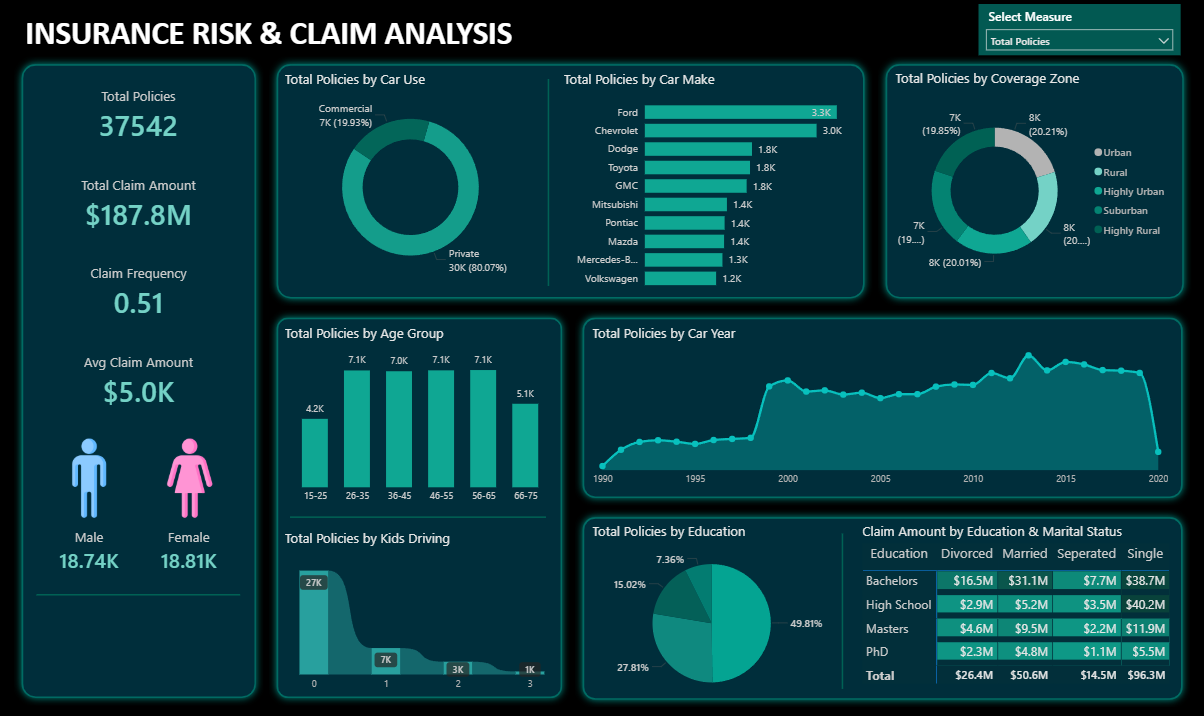

The page's visual inventory and layout, read from the dashboard file:
{"tool":"powerbi","page":{"name":"INSURANCE RISK & CLAIMS ANALYSIS","canvas":[1600,950],"ordinal":0},"visuals":[{"type":"image","box":[73.5,573.8,114.6,114.6],"z":0,"group":"g1"},{"type":"textbox","box":[41.1,13.2,875.4,66.1],"z":0},{"type":"image","box":[205.7,573.8,114.6,114.6],"z":1000,"group":"g1"},{"type":"shape","box":[30.8,77.3,327.5,851.9],"z":1000},{"type":"cardVisual","fields":{"Data":["insurance_data_car.Male Count","insurance_data_car.Female Count"]},"box":[67.6,670.7,257,111.6],"z":2000,"group":"g1"},{"type":"cardVisual","fields":{"Data":["insurance_data_car.Total Policies","insurance_data_car.Total Claim Amount","insurance_data_car.Claim Frequency","insurance_data_car.Avg Claim Amount"]},"box":[61.7,99.4,268.8,459.7],"z":2000},{"type":"group","id":"g1","title":"Group 1","box":[67.6,573.8,257,208.6],"z":3000},{"type":"shape","box":[365.7,77.3,791.7,327.5],"z":4000},{"type":"donutChart","fields":{"Y":["insurance_data_car.Total Policies"],"Category":["insurance_data_car.Car Use"]},"box":[381.2,94.6,339.2,283.7],"z":5000},{"type":"clusteredBarChart","fields":{"Y":["insurance_data_car.Total Policies"],"Category":["insurance_data_car.Car Make"]},"box":[747.5,94.6,393.2,297.2],"z":6000},{"type":"shape","box":[1164.7,75.9,411.3,327.5],"z":7000},{"type":"donutChart","fields":{"Y":["insurance_data_car.Total Policies"],"Category":["insurance_data_car.Coverage Zone"]},"box":[1183.8,93.5,373.1,296.7],"z":8000},{"type":"slicer","fields":{"Values":["Select Measure.Select Measure"]},"box":[1298.3,7.5,265.7,67.5],"z":9000},{"type":"shape","box":[61.7,767.7,267.3,30.8],"z":10000},{"type":"shape","box":[366.2,409.8,394.7,519.3],"z":11000},{"type":"columnChart","fields":{"Y":["insurance_data_car.Total Policies"],"Category":["insurance_data_car.Age Group"]},"box":[381.2,426.3,366.2,244.7],"z":12000},{"type":"ribbonChart","fields":{"Y":["insurance_data_car.Total Policies"],"Category":["insurance_data_car.Kids Driving"]},"box":[381.2,697.9,369.2,220.6],"z":13000},{"type":"shape","box":[768.5,409.8,807.5,256.7],"z":14000},{"type":"areaChart","fields":{"Y":["insurance_data_car.Total Policies"],"Category":["insurance_data_car.Car Year"]},"box":[786.5,426.3,765.5,222.1],"z":15000},{"type":"shape","box":[768.5,670.9,807.5,259.7],"z":16000},{"type":"pivotTable","title":"Claim Amount by Education & Marital Status","fields":{"Values":["insurance_data_car.Total Claim Amount"],"Rows":["insurance_data_car.Education"],"Columns":["insurance_data_car.Marital Status"]},"box":[1139.2,687.4,417.3,222.1],"z":17000},{"type":"pieChart","fields":{"Y":["insurance_data_car.Total Policies"],"Category":["insurance_data_car.Education"]},"box":[786.5,687.4,322.7,243.2],"z":18000},{"type":"shape","box":[394.7,669.4,336.2,24],"z":19000},{"type":"shape","box":[712.9,106.6,40.5,271.7],"z":20000},{"type":"shape","box":[1098.7,702.4,40.5,204.1],"z":21000},{"type":"textbox","box":[133.1,855.5,150.1,37.5],"z":25000},{"type":"textbox","box":[130.6,879.5,150.1,39],"z":26000}]}

Visuals, with their boxes in screenshot pixels (x1, y1, x2, y2), scaled from the page's 1600x950 canvas onto the 1204x716 screenshot:
image: left=55, top=432, right=142, bottom=519
textbox: left=31, top=10, right=690, bottom=60
image: left=155, top=432, right=241, bottom=519
shape: left=23, top=58, right=270, bottom=700
cardVisual - insurance_data_car.Male Count x insurance_data_car.Female Count: left=51, top=505, right=244, bottom=590
cardVisual - insurance_data_car.Total Policies x insurance_data_car.Total Claim Amount: left=46, top=75, right=249, bottom=421
"Group 1" group: left=51, top=432, right=244, bottom=590
shape: left=275, top=58, right=871, bottom=305
donutChart - insurance_data_car.Total Policies x insurance_data_car.Car Use: left=287, top=71, right=542, bottom=285
clusteredBarChart - insurance_data_car.Total Policies x insurance_data_car.Car Make: left=562, top=71, right=858, bottom=295
shape: left=876, top=57, right=1186, bottom=304
donutChart - insurance_data_car.Total Policies x insurance_data_car.Coverage Zone: left=891, top=70, right=1172, bottom=294
slicer - Select Measure.Select Measure: left=977, top=6, right=1177, bottom=57
shape: left=46, top=579, right=248, bottom=602
shape: left=276, top=309, right=573, bottom=700
columnChart - insurance_data_car.Total Policies x insurance_data_car.Age Group: left=287, top=321, right=562, bottom=506
ribbonChart - insurance_data_car.Total Policies x insurance_data_car.Kids Driving: left=287, top=526, right=565, bottom=692
shape: left=578, top=309, right=1186, bottom=502
areaChart - insurance_data_car.Total Policies x insurance_data_car.Car Year: left=592, top=321, right=1168, bottom=489
shape: left=578, top=506, right=1186, bottom=701
"Claim Amount by Education & Marital Status" pivotTable: left=857, top=518, right=1171, bottom=685
pieChart - insurance_data_car.Total Policies x insurance_data_car.Education: left=592, top=518, right=835, bottom=701
shape: left=297, top=505, right=550, bottom=523
shape: left=536, top=80, right=567, bottom=285
shape: left=827, top=529, right=857, bottom=683
textbox: left=100, top=645, right=213, bottom=673
textbox: left=98, top=663, right=211, bottom=692
